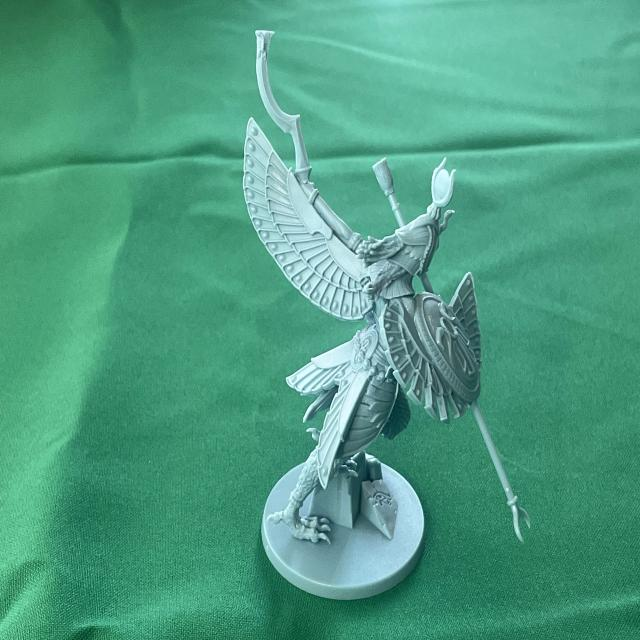isis: (233, 15, 536, 610)
